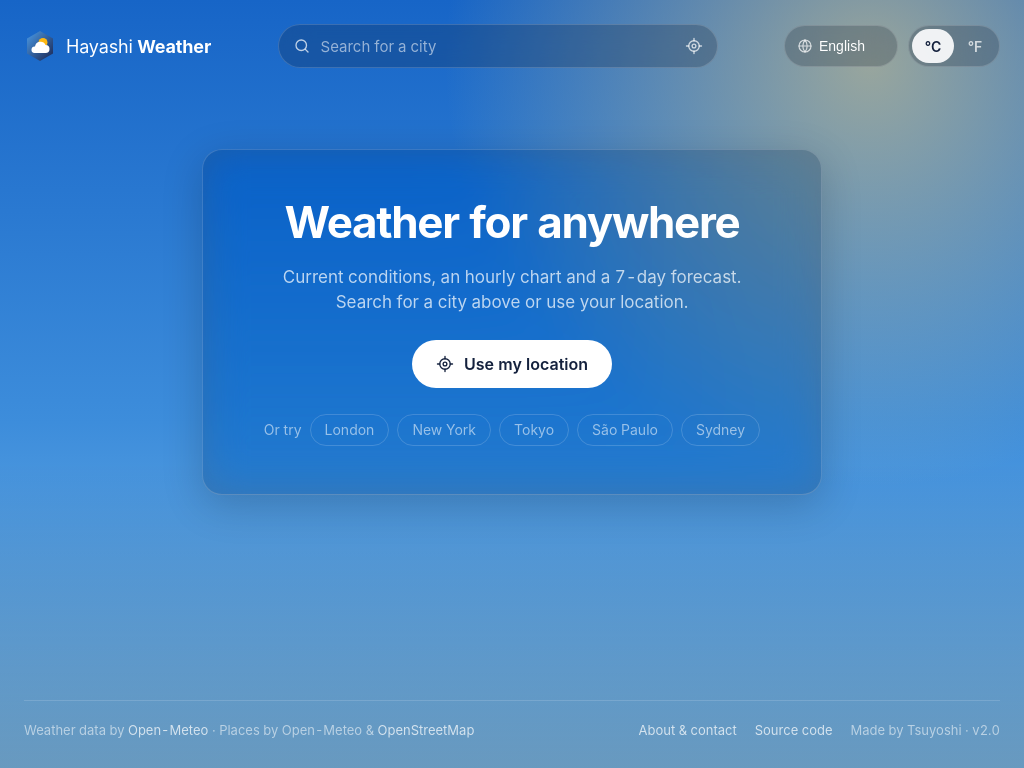
Test: the language picker overrides the browser and is remembered
Select "Español" in the dropdown named "Language": (841, 46) [785,26,897,66]
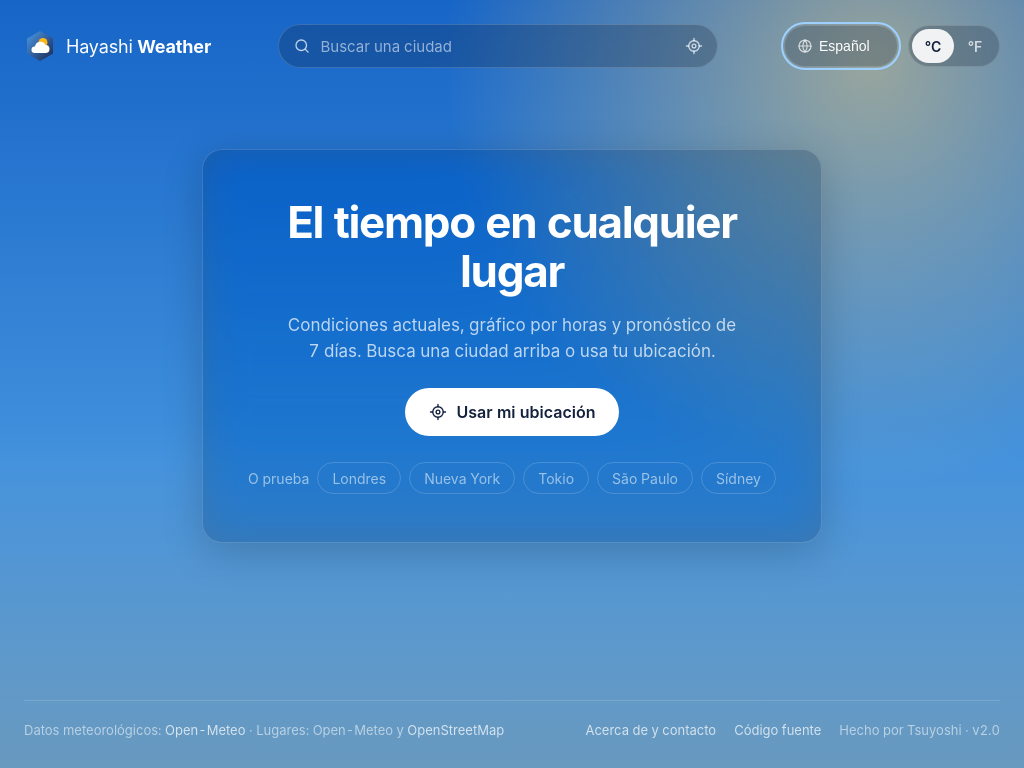
Now the heading "El tiempo en cualquier lugar" is shown, box [287,195,737,298]
